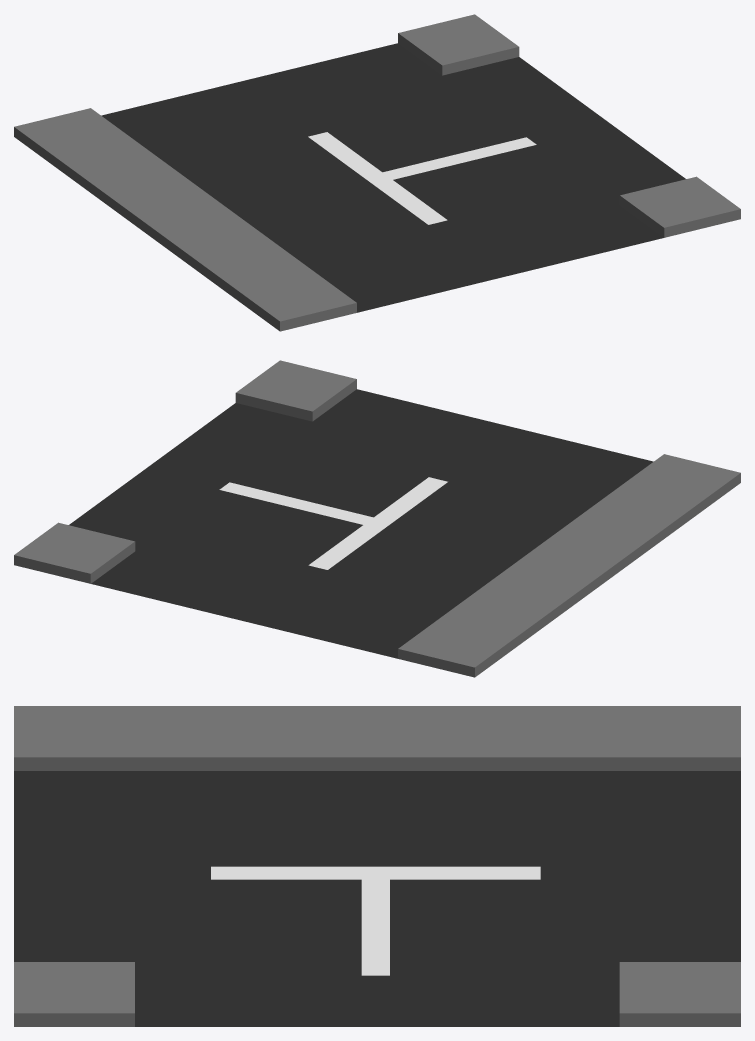
Rendered from RoadTJunc.fbx.
3 views of the same model, one above another, from view 1: azimuth 30°, elevation 25°; view 2: azimuth 150°, elevation 25°; view 3: azimuth 270°, elevation 25° (orthographic). The views are drawn at different scales.
Visible parts, largest first — view 1: RoadTJunction; view 2: RoadTJunction; view 3: RoadTJunction.
Part boxes in pixels (box(x1,y1,x2,y2)): RoadTJunction: box(14, 14, 740, 331); RoadTJunction: box(14, 360, 740, 677); RoadTJunction: box(14, 706, 740, 1026).
Bounding box in the file's own units: 24 × 0.5 × 24.
1 material, 1 textured.
